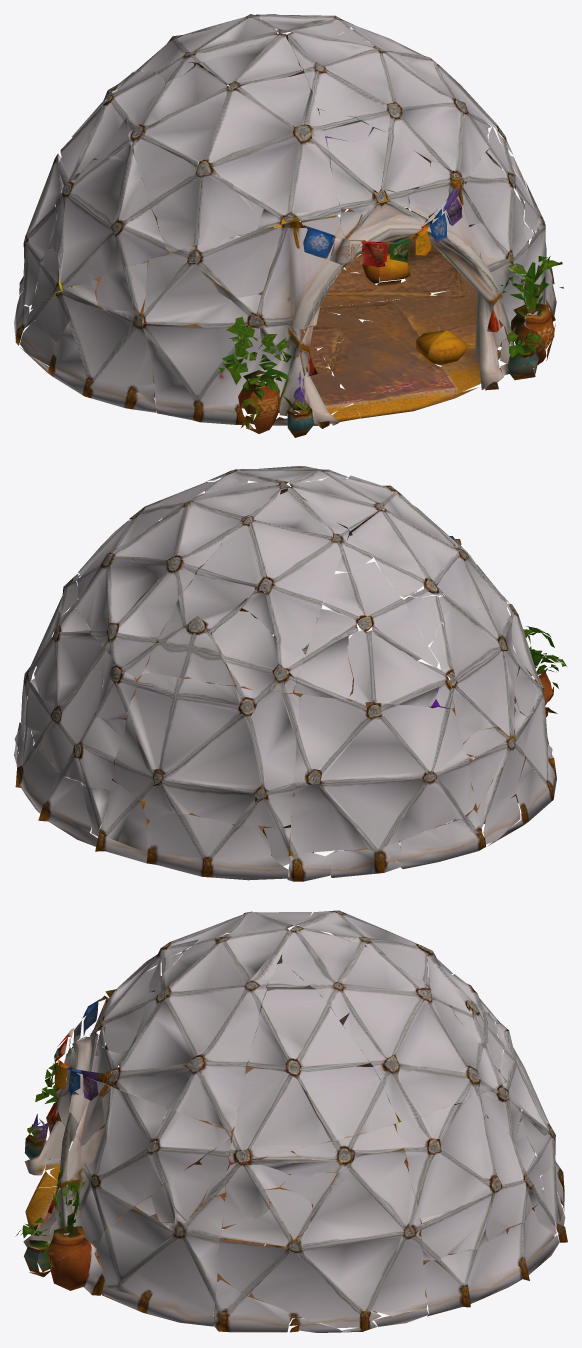
Rendered from dome.glb.
The picture shows the model from 3 angles, top to bottom: view 1: azimuth 30°, elevation 25°; view 2: azimuth 150°, elevation 25°; view 3: azimuth 270°, elevation 25°; orthographic projection.
Visible parts, largest first — view 1: tripo_node_70b9f8e4-934d-4065-a88e-8435d20d6c09; view 2: tripo_node_70b9f8e4-934d-4065-a88e-8435d20d6c09; view 3: tripo_node_70b9f8e4-934d-4065-a88e-8435d20d6c09.
Boxes of the visible parts, x1,y1,x2,y2 form: tripo_node_70b9f8e4-934d-4065-a88e-8435d20d6c09: (14,14,563,437); tripo_node_70b9f8e4-934d-4065-a88e-8435d20d6c09: (14,466,566,881); tripo_node_70b9f8e4-934d-4065-a88e-8435d20d6c09: (15,910,567,1332).
Size of the model in its own units: 6.08 by 3.5 by 6.03.
1 material, 1 textured.
